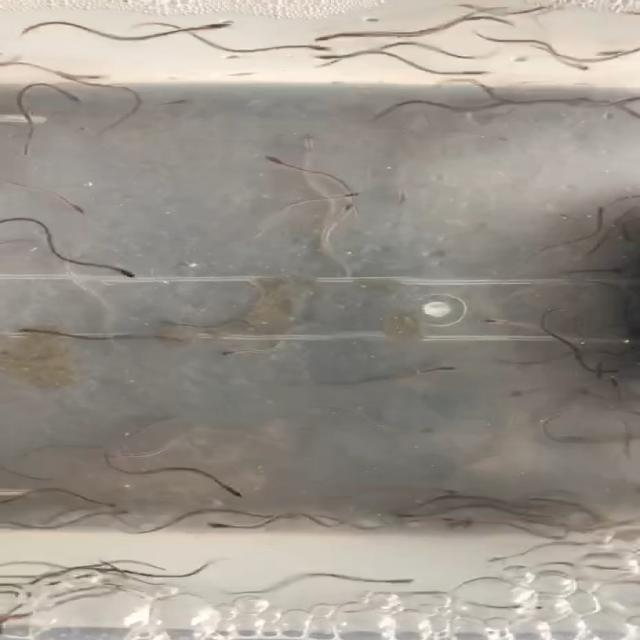active_glass_eel: (57, 90, 111, 112), (410, 364, 460, 386), (210, 343, 261, 364), (466, 314, 511, 335), (0, 318, 46, 338), (100, 509, 151, 525), (378, 566, 418, 586), (304, 25, 342, 46), (290, 132, 333, 149), (220, 484, 255, 503), (579, 200, 614, 218), (389, 192, 432, 206), (338, 203, 378, 218), (56, 199, 96, 213), (94, 496, 129, 511), (249, 154, 285, 168), (108, 265, 143, 279), (75, 72, 124, 82), (400, 502, 423, 522), (288, 41, 329, 52), (332, 186, 368, 198), (567, 59, 596, 73), (199, 517, 226, 531), (198, 20, 229, 32), (315, 54, 341, 68)
